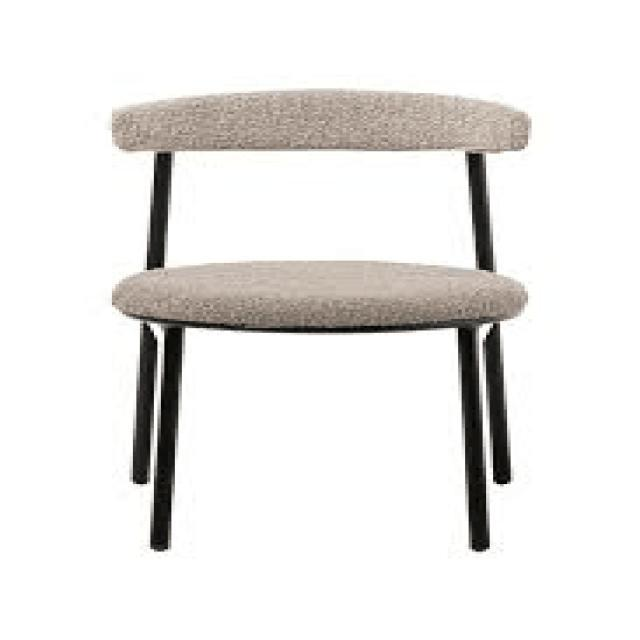chair: (105, 80, 533, 554), (105, 87, 540, 336)
